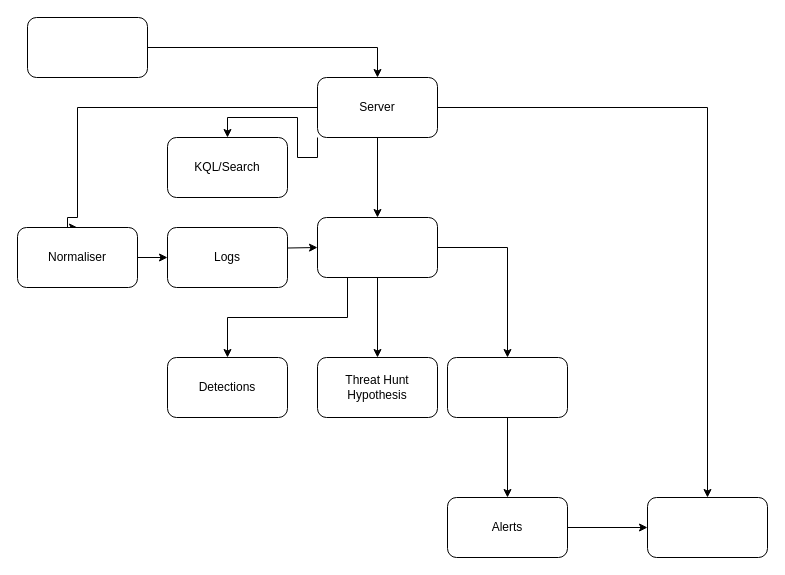
The diagram is 785 pixels wide and 575 high, and some of its shapes have lost their labels. The box of each missing label's shape, as (x1, y1, x2, y2) in pixels:
Agent: (26, 16, 148, 78)
Alert Management: (646, 496, 768, 558)
Detection Engine: (316, 216, 438, 278)
Rules: (446, 356, 568, 418)
